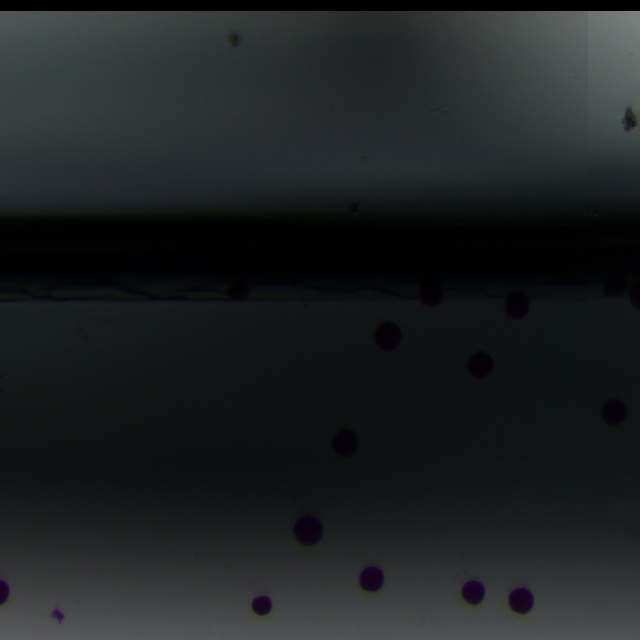viable: (294, 516, 322, 544), (375, 323, 400, 351), (468, 352, 493, 378), (332, 430, 357, 456), (509, 588, 533, 613), (603, 400, 627, 425), (421, 278, 441, 307), (360, 566, 383, 590), (462, 580, 485, 604), (506, 293, 528, 318), (252, 595, 271, 614)
